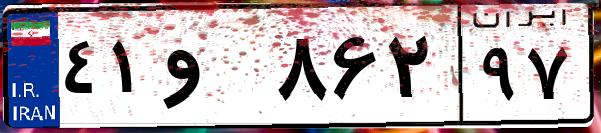1: (110, 28, 158, 98)
2: (385, 28, 445, 110)
4: (57, 26, 110, 100)
6: (330, 28, 385, 110)
7: (525, 38, 570, 115)
8: (270, 28, 330, 110)
9: (475, 38, 525, 113)
و: (158, 20, 270, 120)
